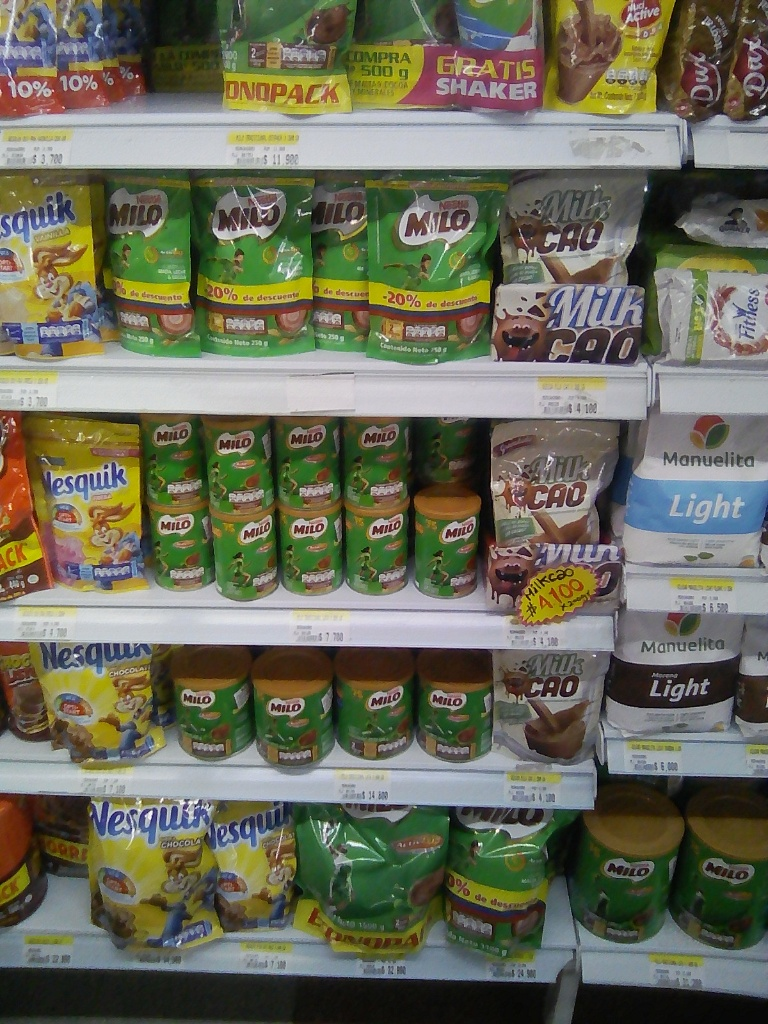COL0170103TRR30000: (1, 649, 51, 752)
COL0170203DYP25000: (101, 171, 193, 360)
COL0170203LAT20000: (141, 417, 204, 503)
COL0170203LAT40000: (163, 664, 253, 768)
COL0170303DYP20000: (33, 642, 169, 766)
COL0170305DYP20000: (0, 411, 142, 603)
COL0170306DYP20000: (1, 175, 103, 361)
